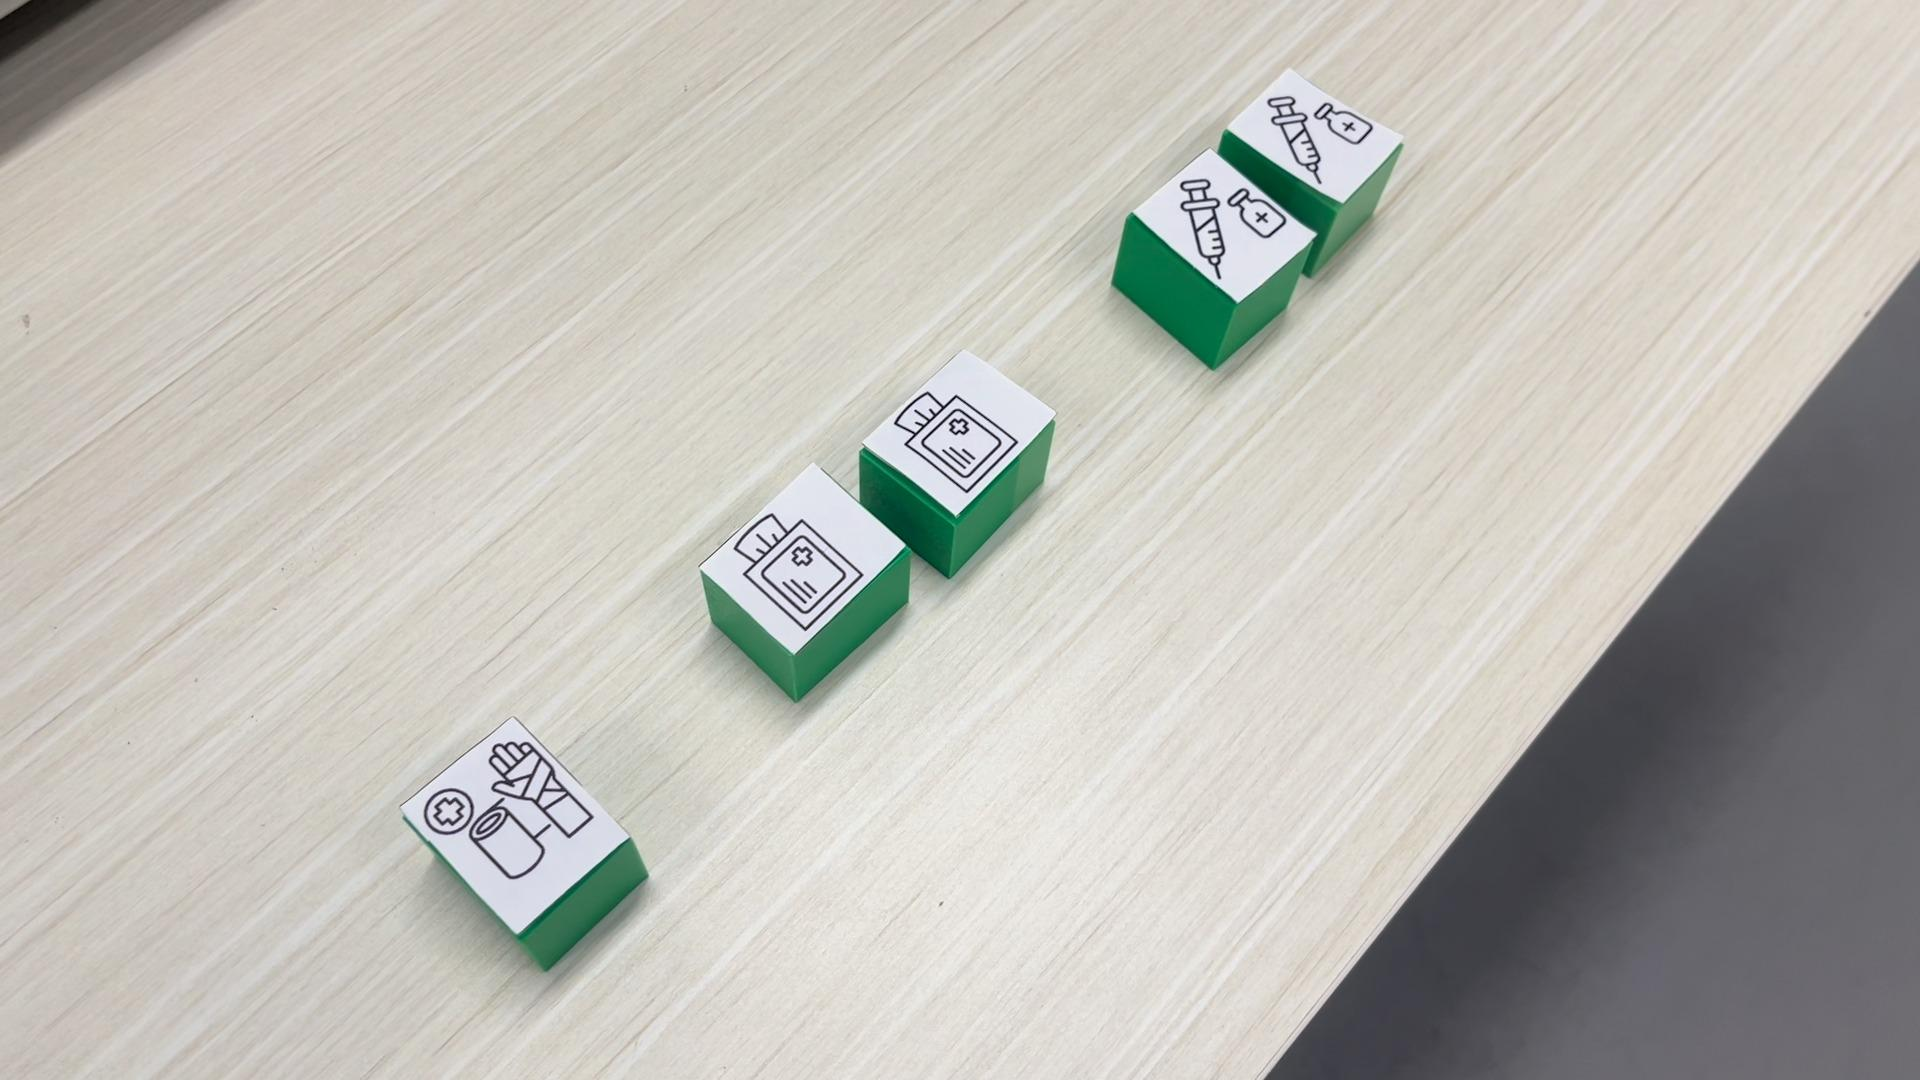Bandages: (392, 716, 646, 971)
Gauze: (699, 462, 909, 705), (858, 348, 1059, 576)
antiseptic cream: (1110, 148, 1316, 371), (1218, 66, 1408, 202)
